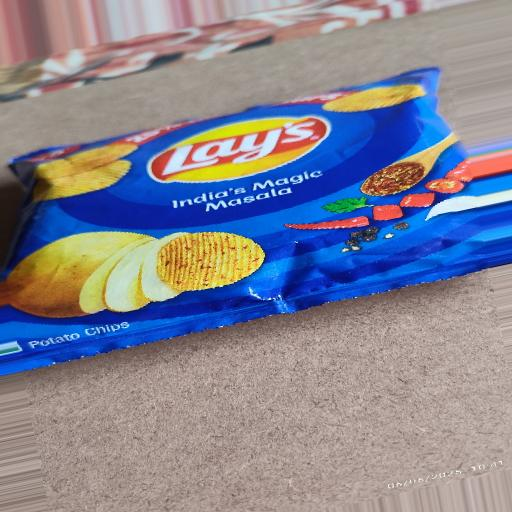Lays Blue (India Masala magic): (0, 50, 511, 433)
